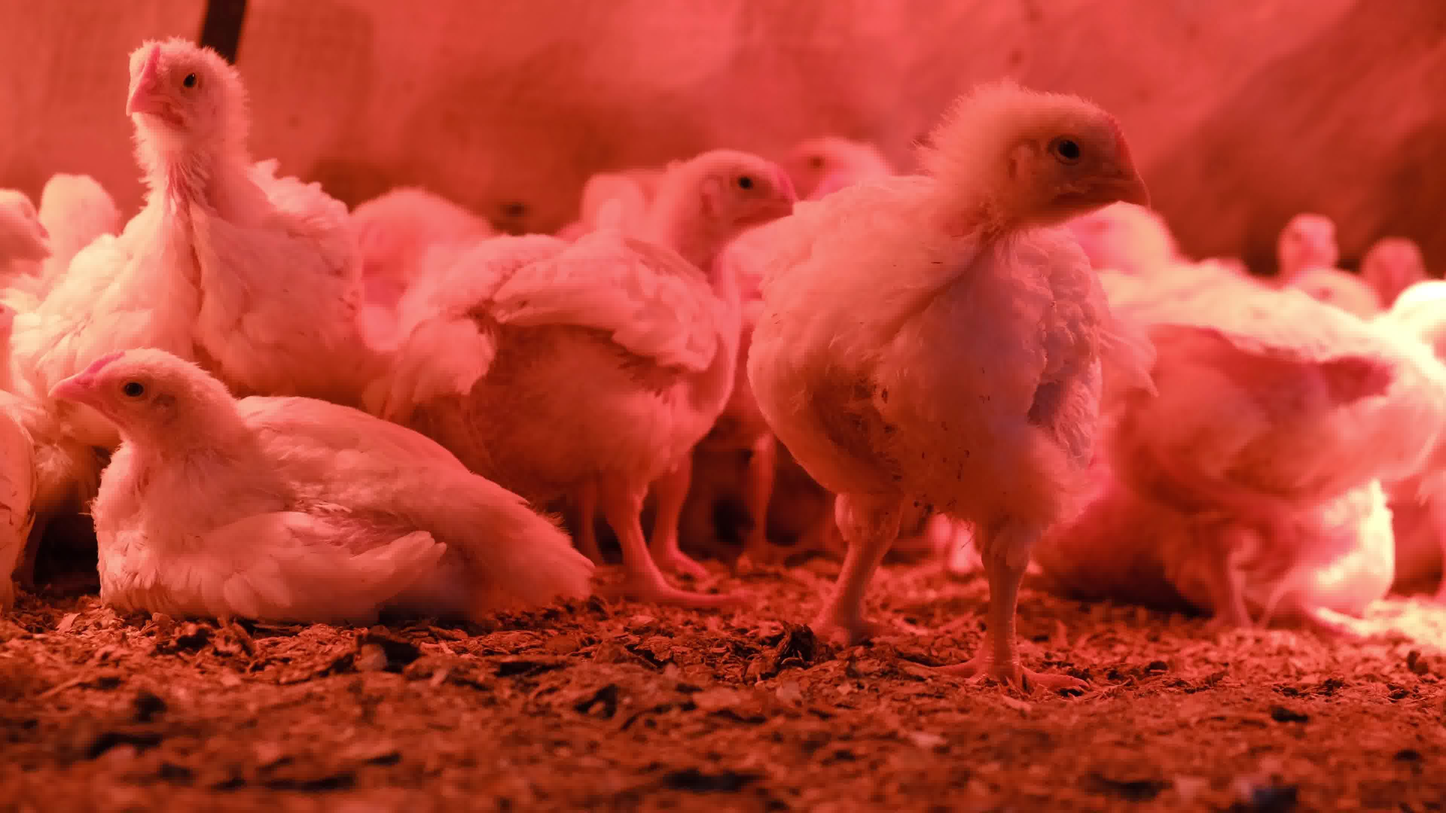AbNormal: (9, 350, 614, 634)
Normal: (708, 90, 1147, 676), (426, 145, 796, 602), (1096, 241, 1446, 640), (45, 41, 380, 341), (1248, 179, 1359, 295)
